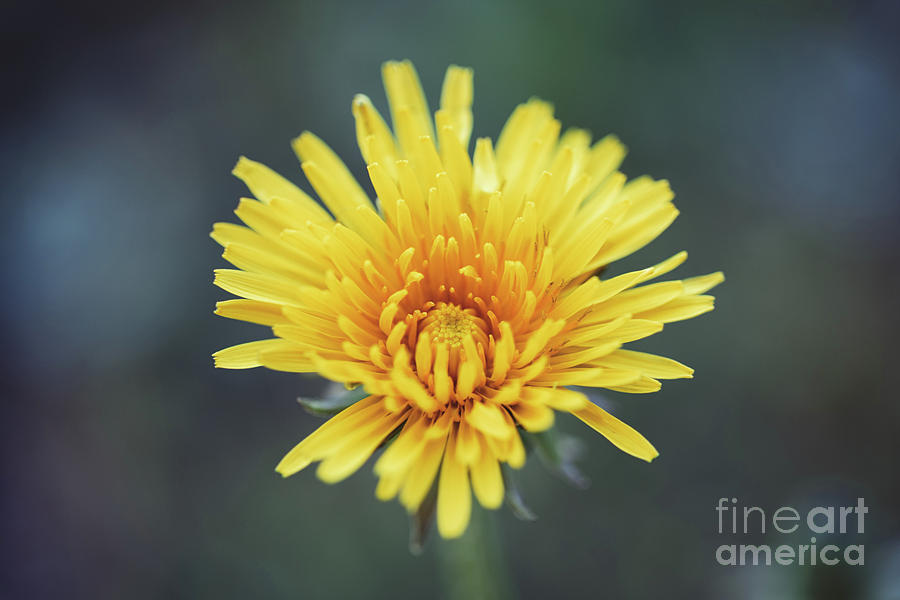dandelion: (213, 116, 698, 495)
